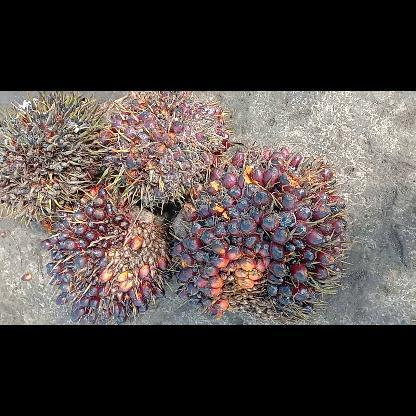Kurang masak: (40, 188, 170, 324), (97, 91, 229, 203)
TBS abnormal: (0, 92, 107, 224)
TBS masak: (172, 142, 348, 322)
